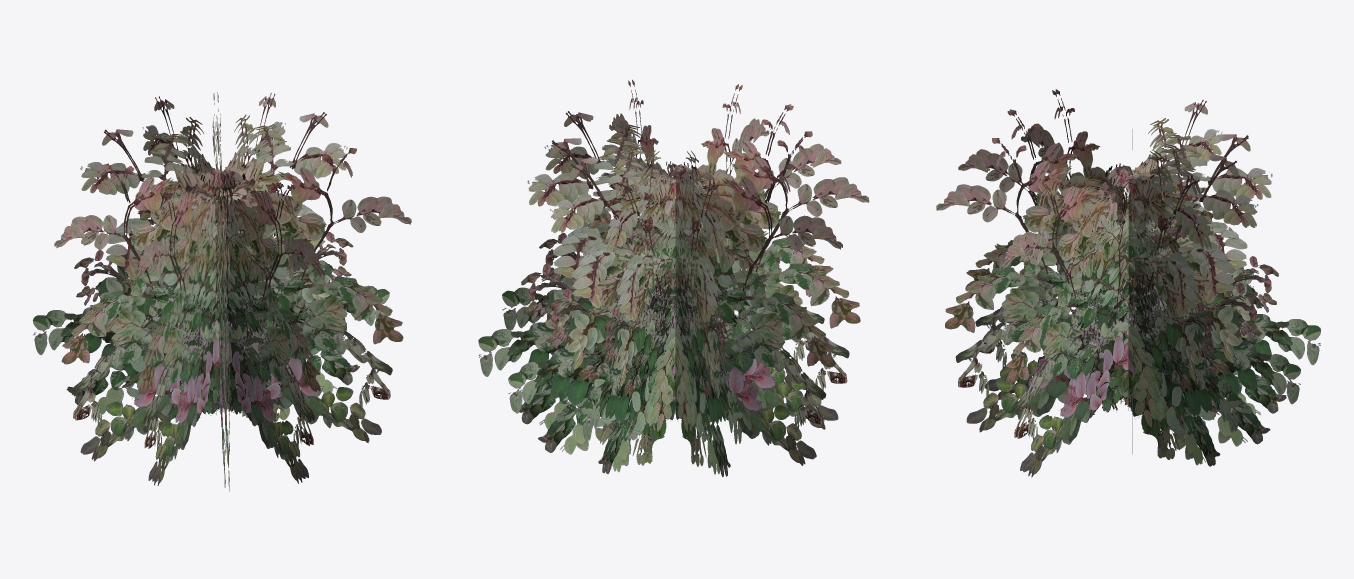
The model's file is Snowbush.fbx.
3 views of the same model, side by side, from view 1: azimuth 30°, elevation 25°; view 2: azimuth 150°, elevation 25°; view 3: azimuth 270°, elevation 25° (orthographic).
Visible parts, largest first — view 1: Snowbush transparent; view 2: Snowbush transparent; view 3: Snowbush transparent.
Part boxes in pixels (left/top/right/bottom): Snowbush transparent: left=33, top=92, right=411, bottom=491; Snowbush transparent: left=478, top=79, right=869, bottom=476; Snowbush transparent: left=936, top=89, right=1320, bottom=477.
Size of the model in its own units: 103 by 100 by 103.
